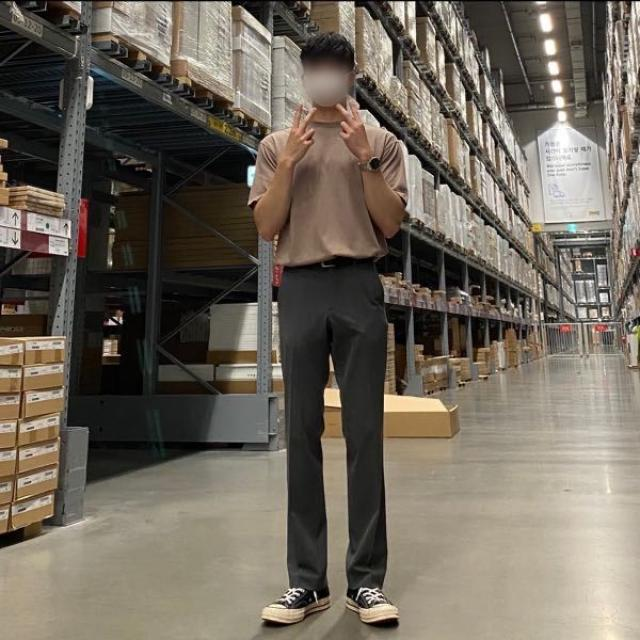shortsleeve: (254, 110, 415, 266)
slacks: (278, 260, 388, 592)
